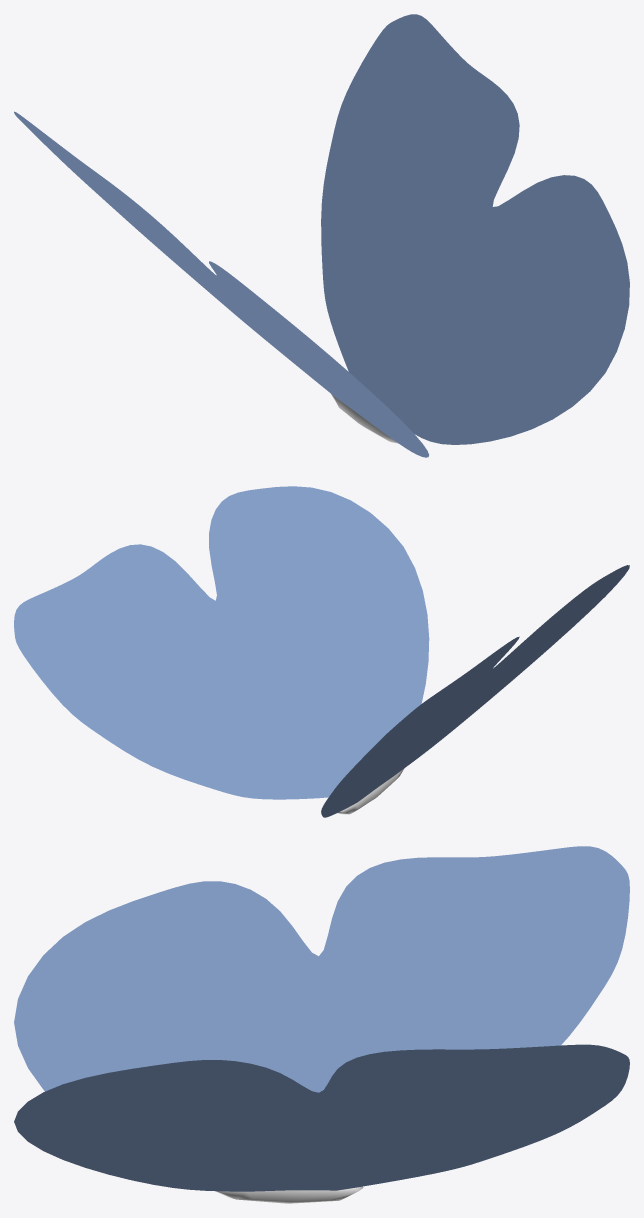
Rendered from PAPILLON.gltf.
The picture shows the model from 3 angles, top to bottom: view 1: azimuth 30°, elevation 25°; view 2: azimuth 150°, elevation 25°; view 3: azimuth 270°, elevation 25°; orthographic projection.
Visible parts, largest first — view 1: Papillon; view 2: Papillon, Cube; view 3: Papillon, Cube.
Part boxes in pixels (left/top/right/bottom): Papillon: left=14, top=14, right=629, bottom=457; Papillon: left=14, top=486, right=629, bottom=817; Cube: left=338, top=769, right=403, bottom=814; Papillon: left=14, top=846, right=629, bottom=1191; Cube: left=215, top=1186, right=363, bottom=1203.
Bounding box in the file's own units: 2.33 × 1.4 × 3.04.
